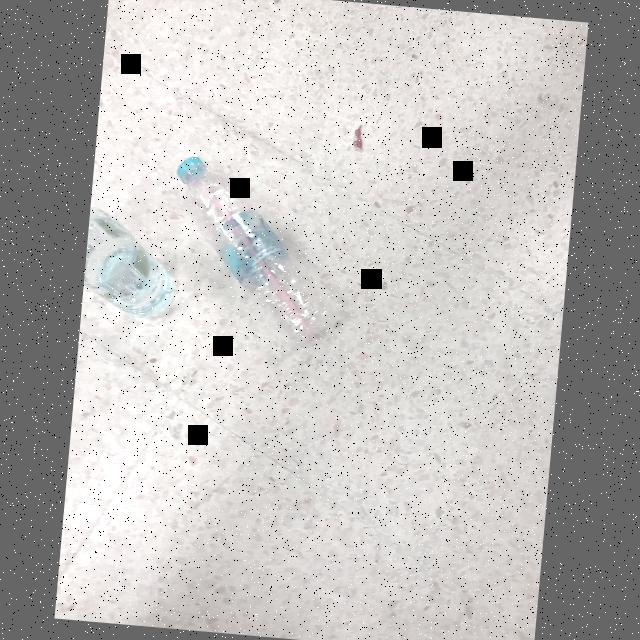plastic_bottle: (162, 157, 356, 346), (80, 205, 180, 325)
plastic_bottle_cap: (174, 155, 207, 187)
